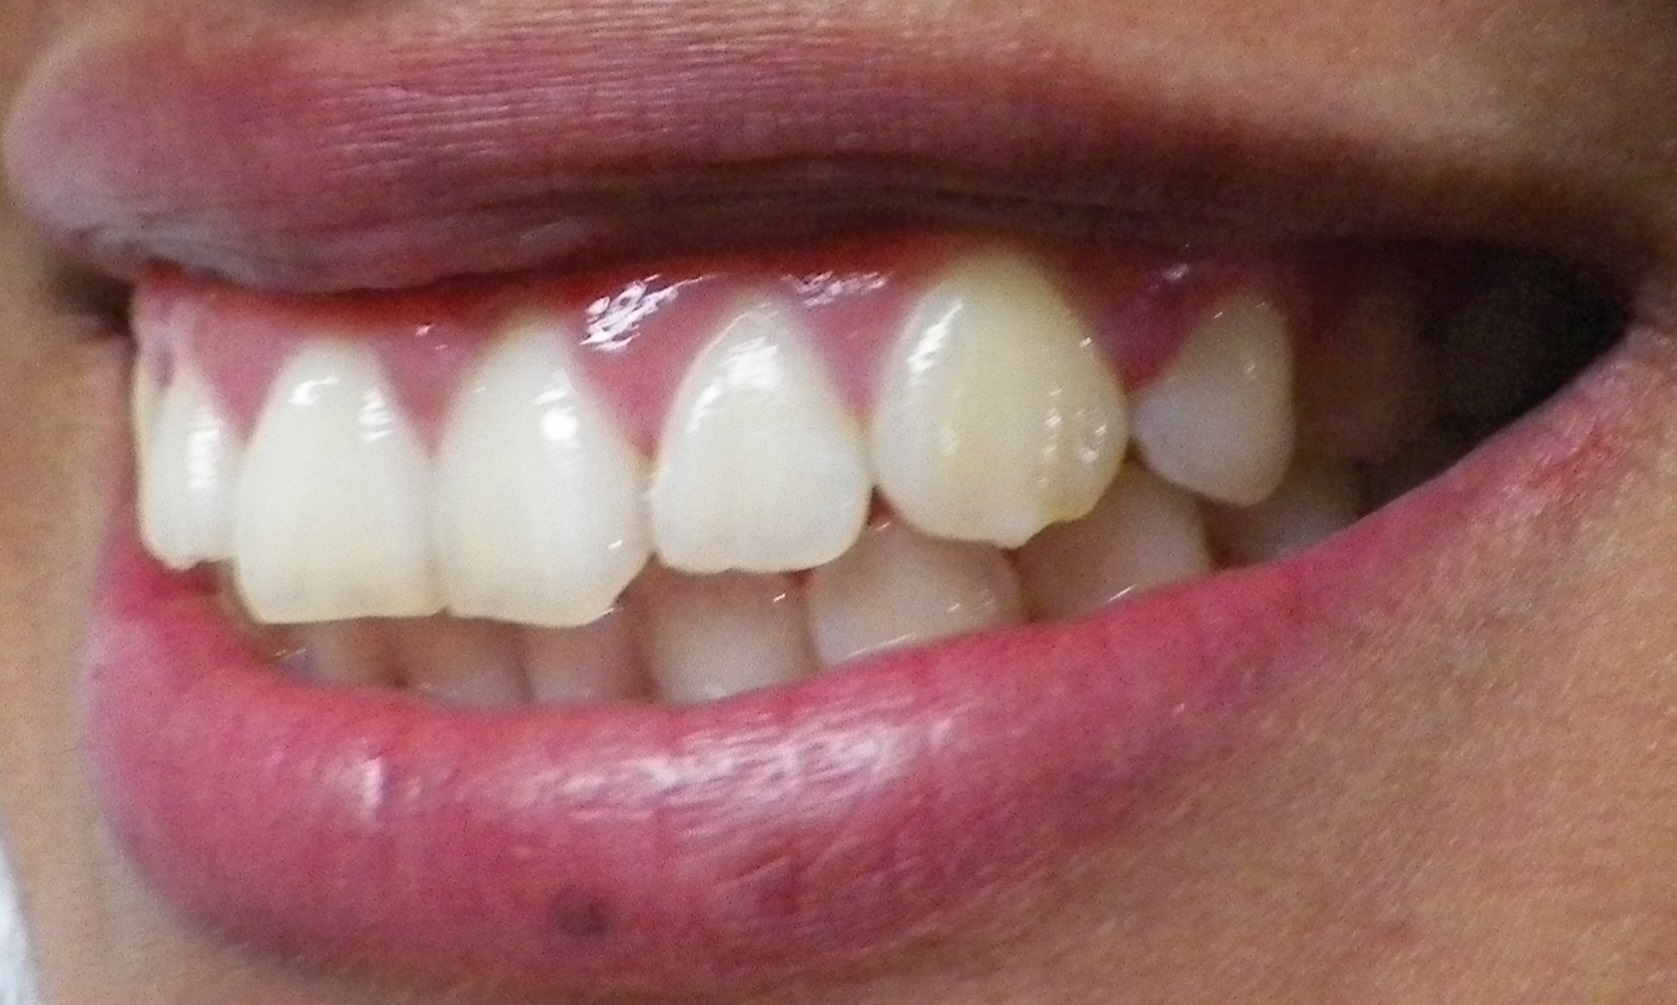boca: (134, 239, 1472, 719)
